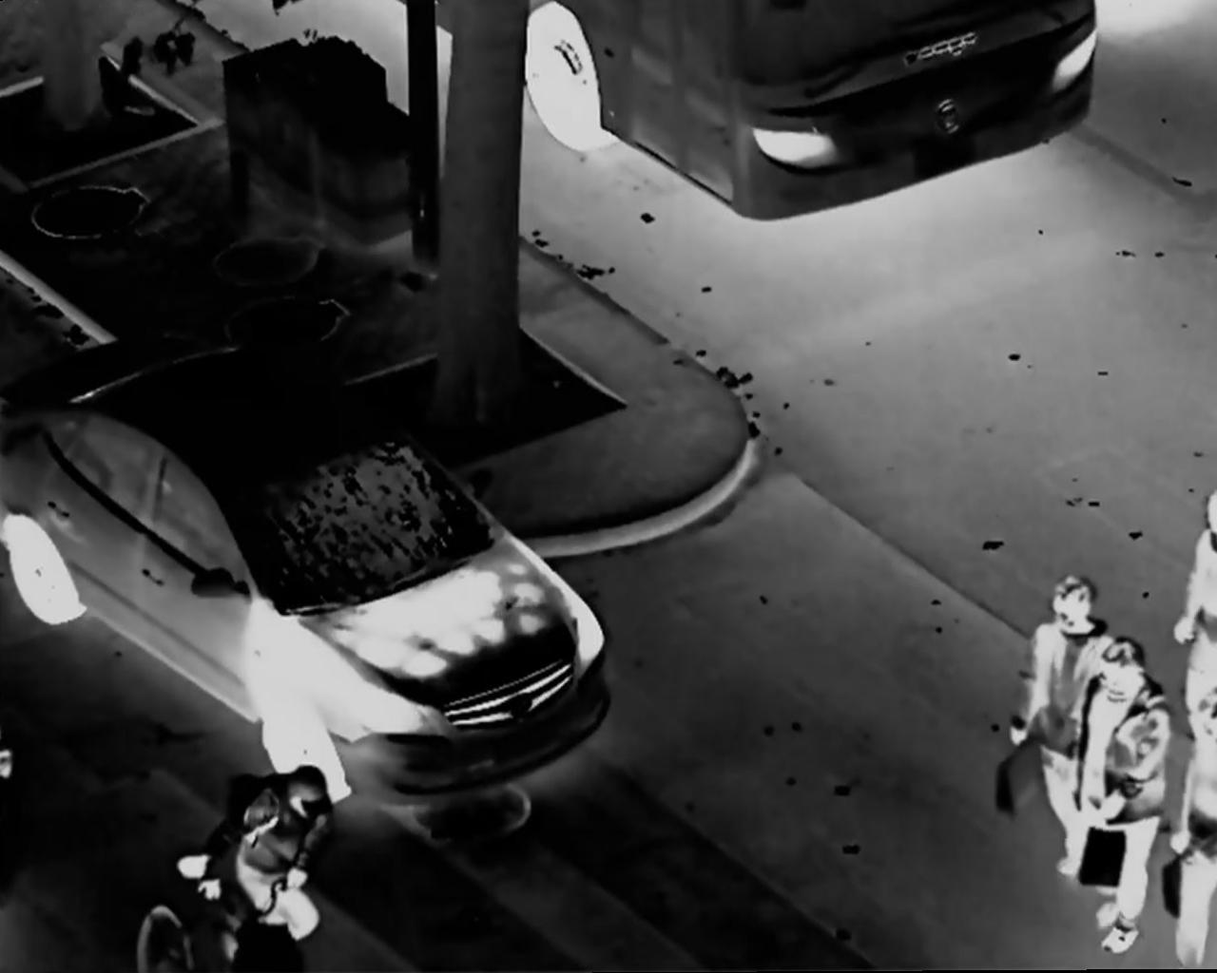person: (222, 761, 349, 962), (1092, 634, 1161, 965), (1030, 570, 1106, 863), (1169, 705, 1217, 969), (1178, 476, 1215, 705)
